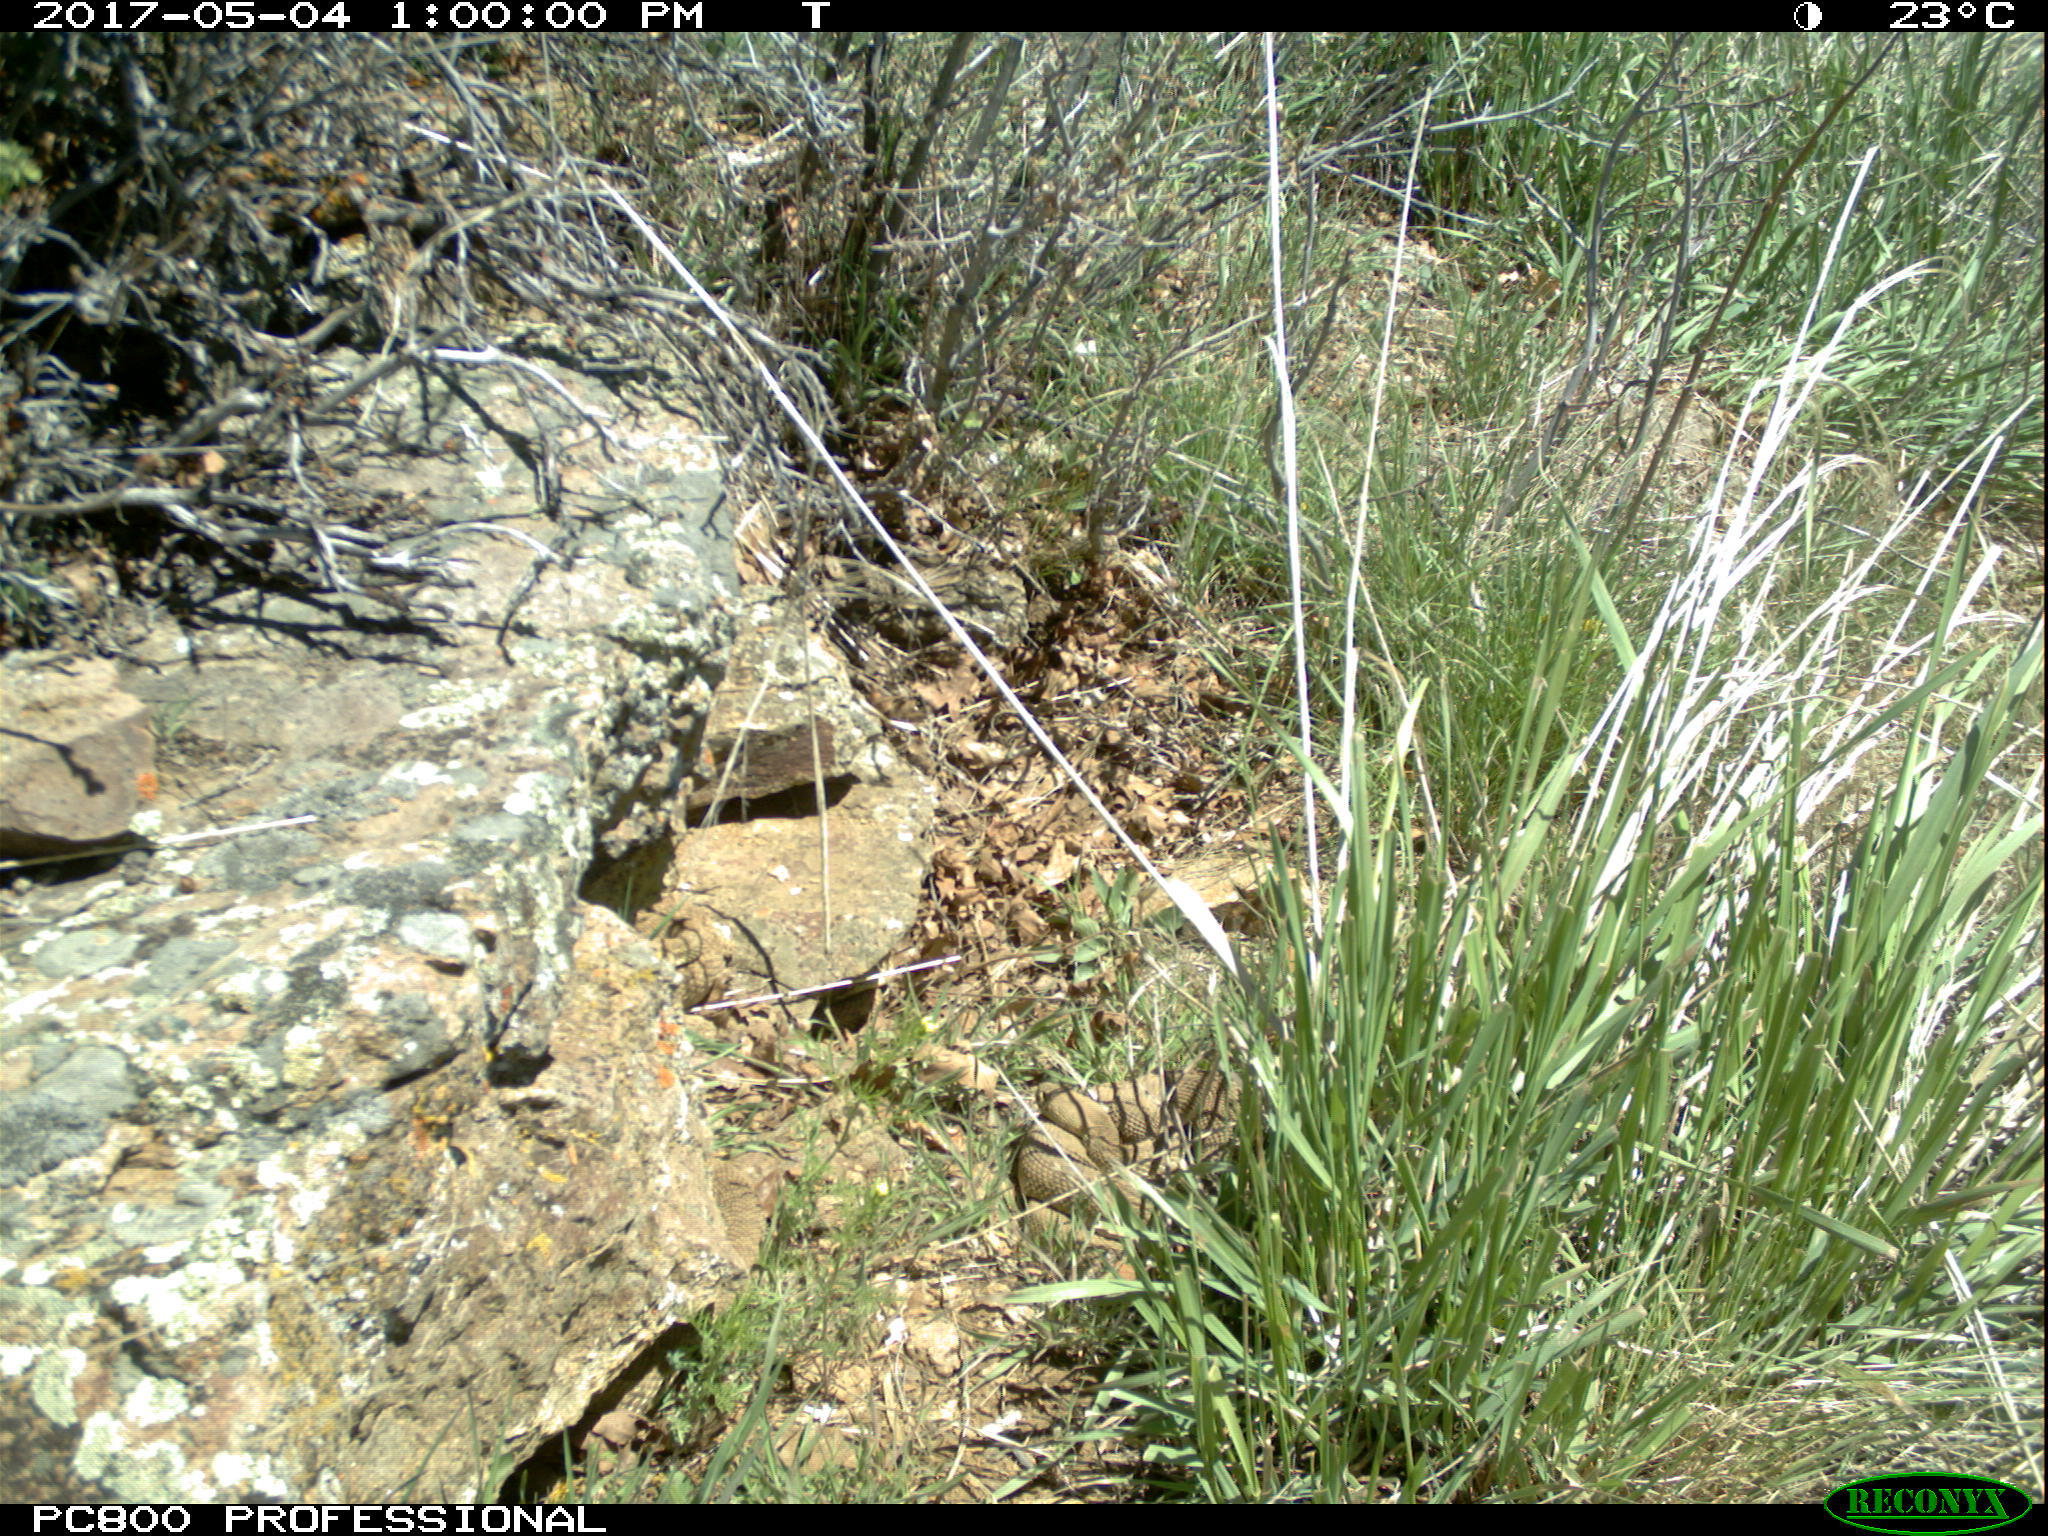snake: (1014, 1068, 1248, 1281), (626, 900, 739, 1013)
